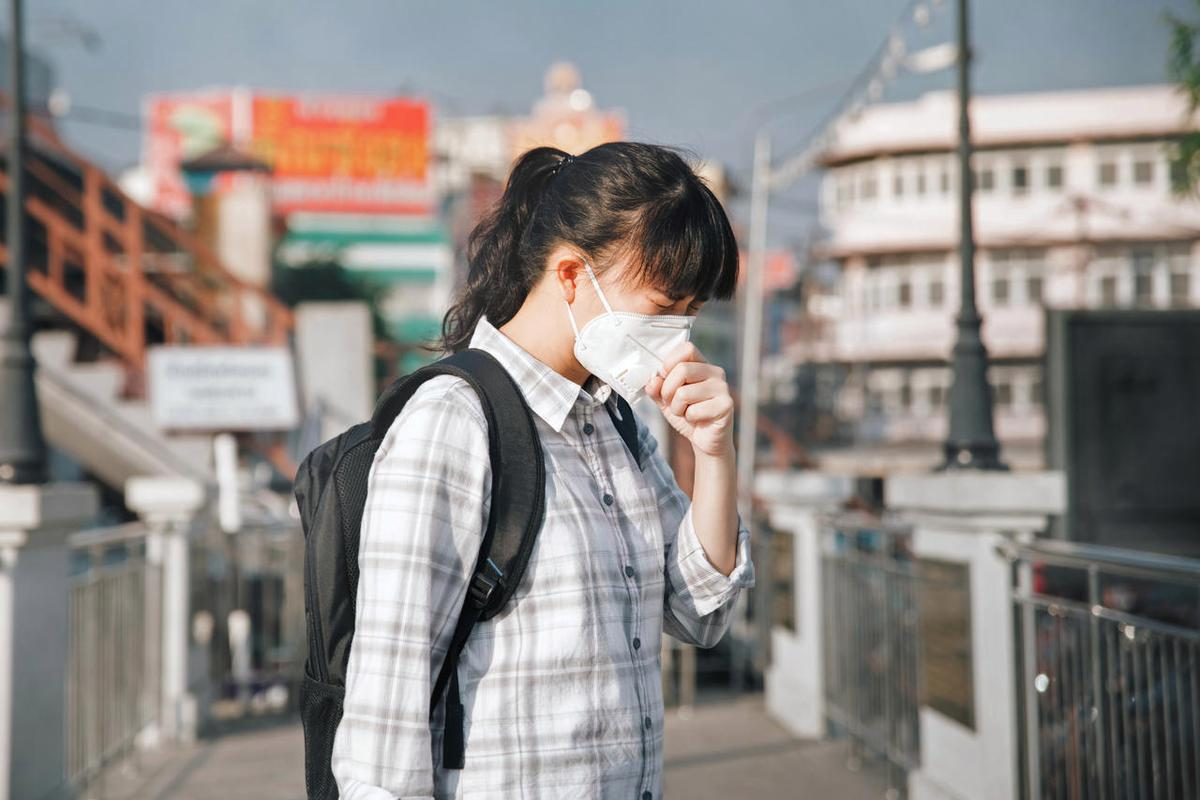mask: (565, 205, 718, 408)
